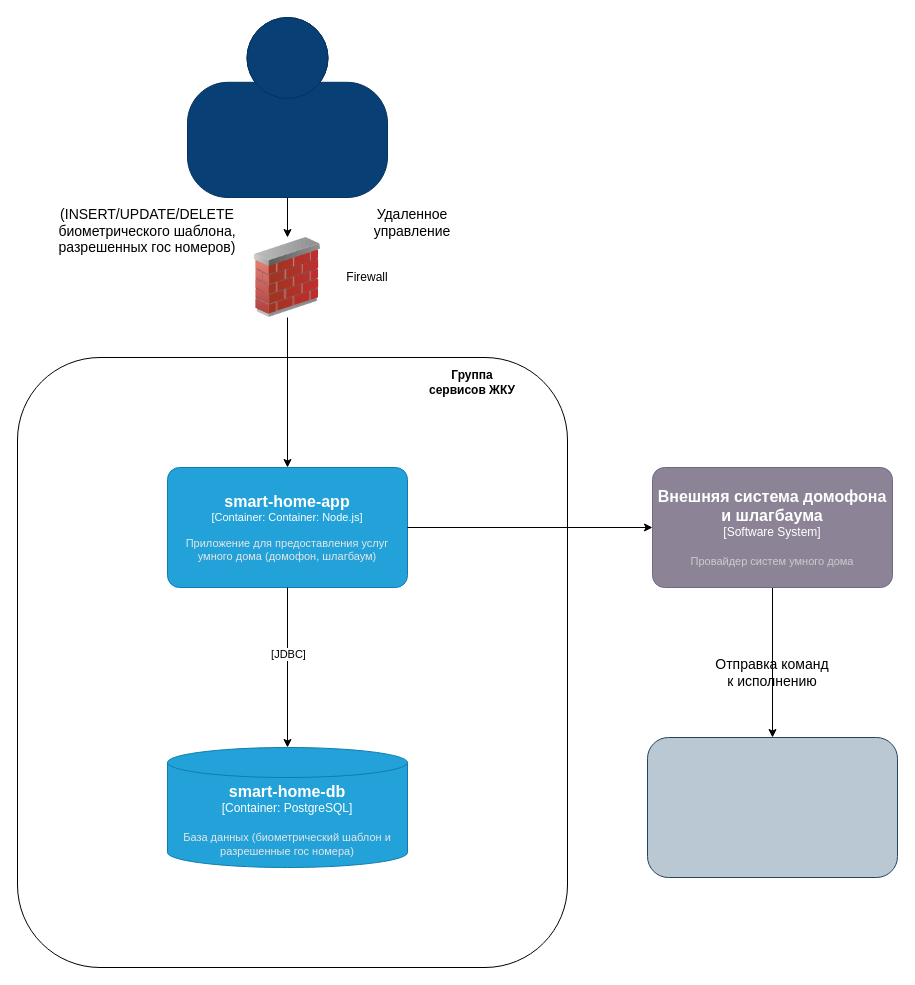
Some shapes in this 915 by 985 pixel diagram are drawn without their labels. The shapes that lost their labels are listed below. From the top down, each one's centre as x and y in pixels, then its label:
At pixel 287 107: "Собственник [Person] Клиент".
At pixel 772 807: "Датчики Интеллектуального домофона и шлагбаума".
